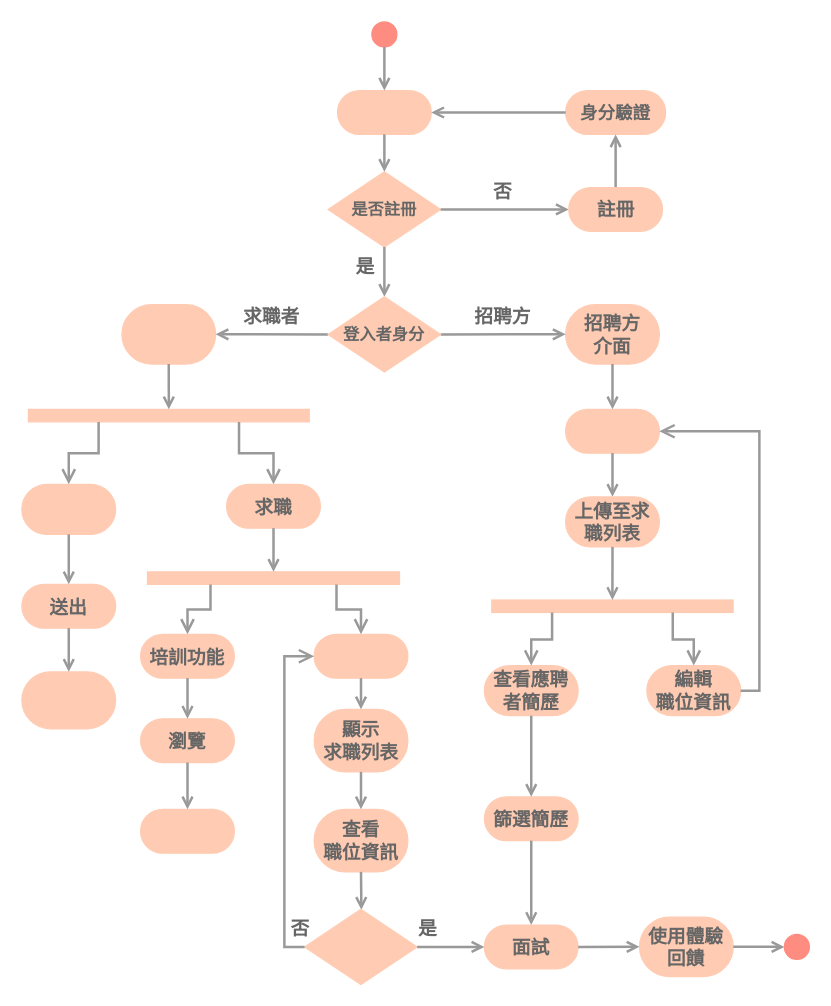
This 831x1006 diagram has some shape labels left out. Here are the shapes that lost their labels. From the top down, the centre of each, then its label:
At pixel 383 111: "登入".
At pixel 168 333: "求職者 介面".
At pixel 611 430: "發布職位".
At pixel 68 508: "編輯 個人資料".
At pixel 360 655: "搜尋職位".
At pixel 68 700: "更新 資料庫".
At pixel 186 830: "報名課程".
At pixel 360 946: "匹配成功".
